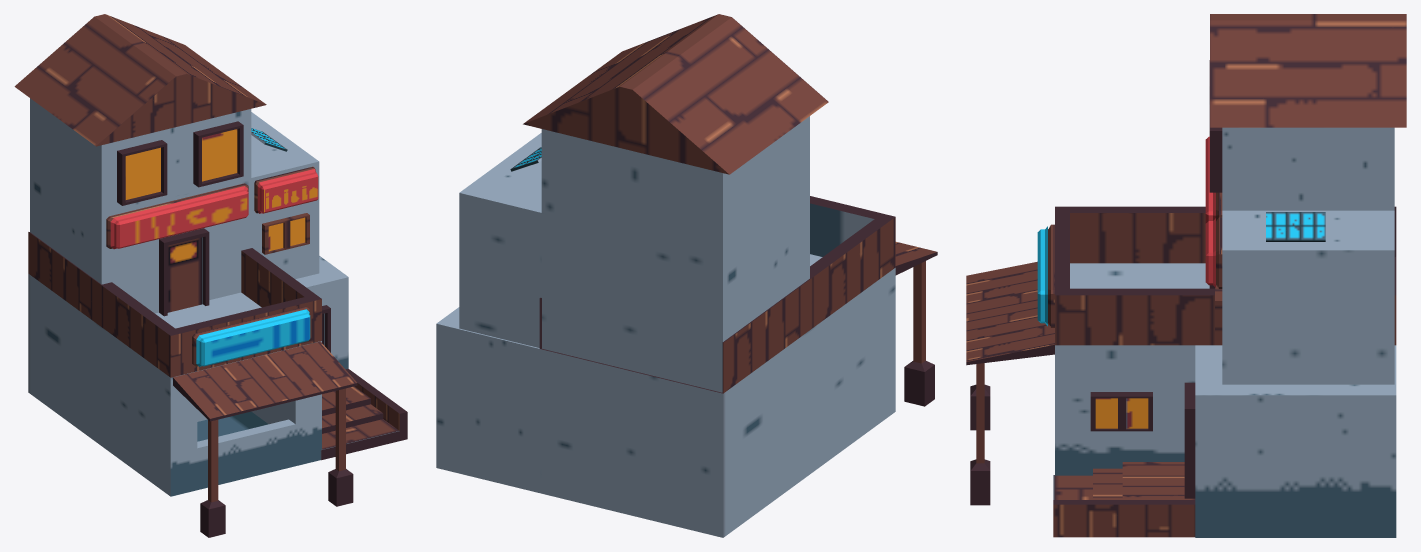
Rendered from Casa com Painel Solar.v1.2108.Anibal.fbx.
The picture shows the model from 3 angles, left to right: view 1: azimuth 30°, elevation 25°; view 2: azimuth 150°, elevation 25°; view 3: azimuth 270°, elevation 25°; orthographic projection. The views are drawn at different scales.
Parts seen in each view (by area): view 1: Casa com Painel solar; view 2: Casa com Painel solar; view 3: Casa com Painel solar.
Boxes of the visible parts, x1,y1,x2,y2 form: Casa com Painel solar: (14, 14, 407, 537); Casa com Painel solar: (436, 14, 937, 537); Casa com Painel solar: (966, 14, 1406, 537).
Size of the model in its own units: 931 by 1201 by 1342.
